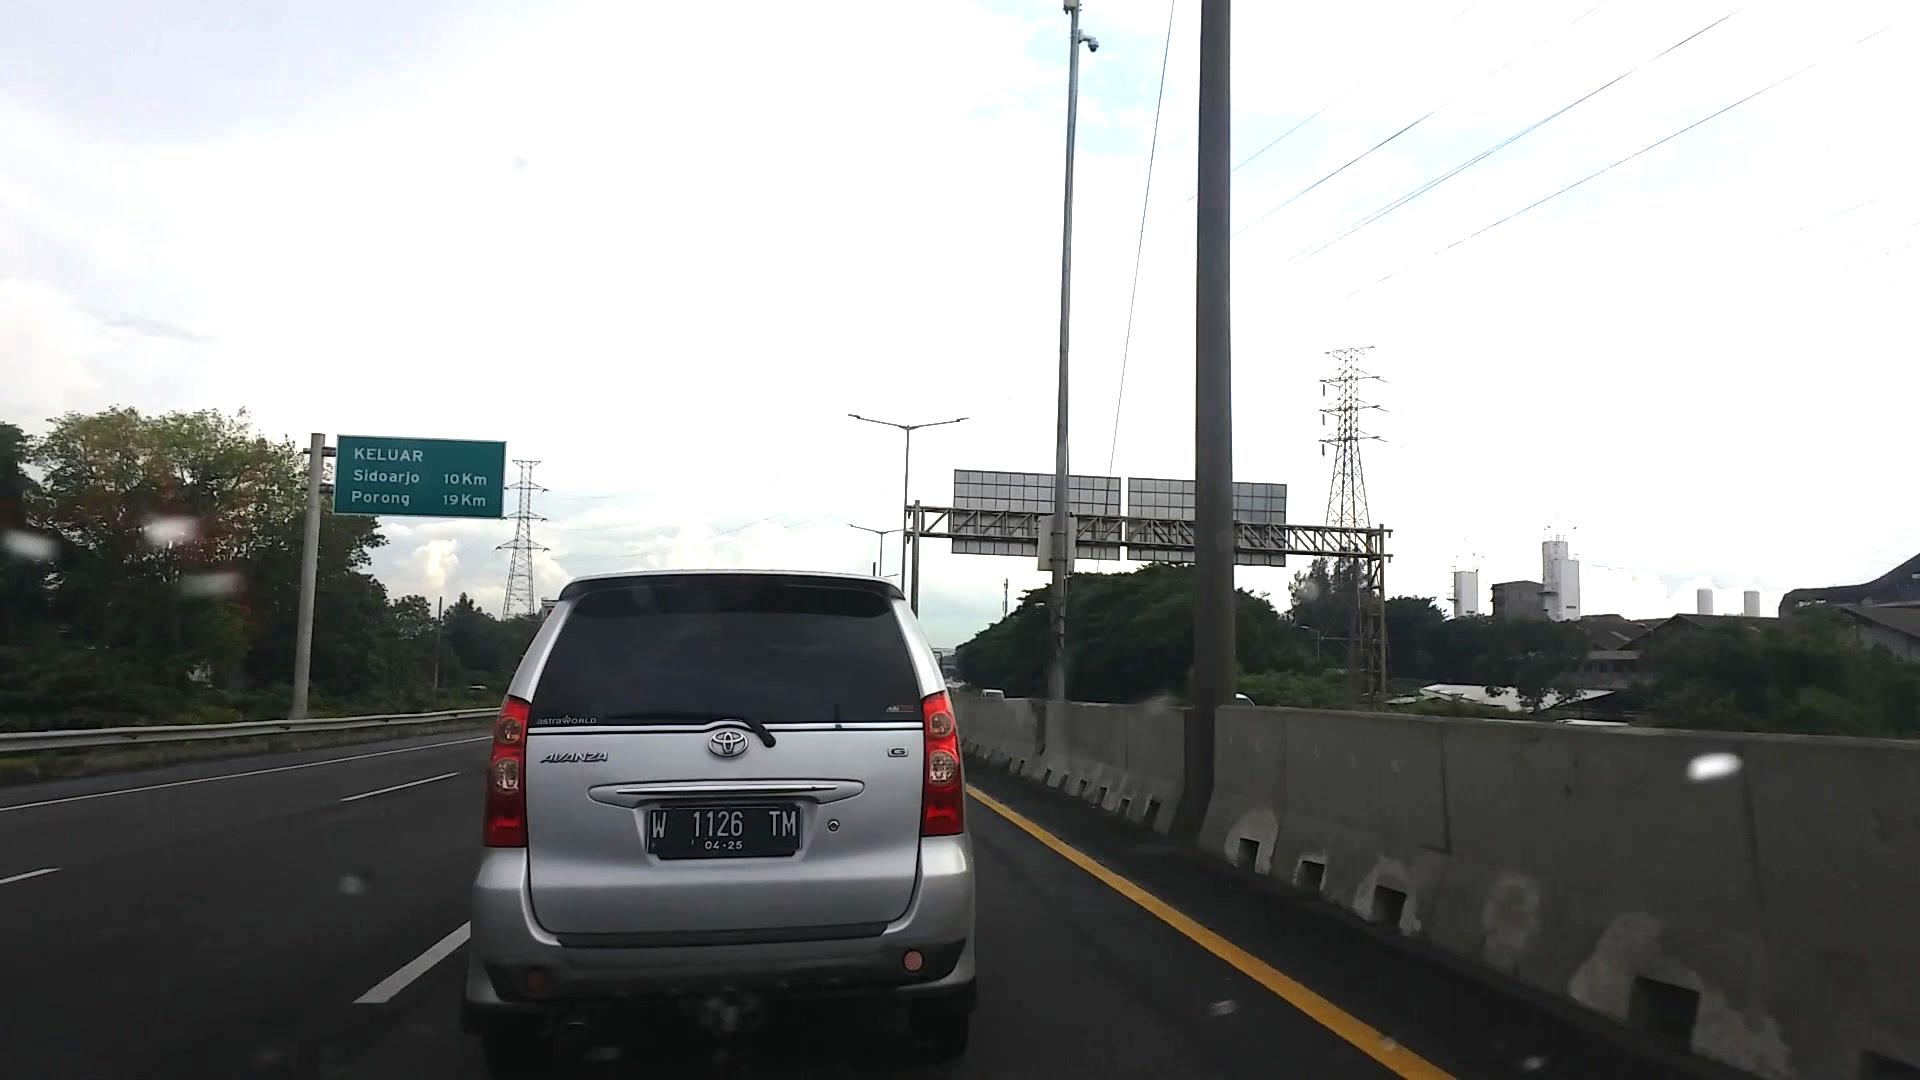plate_positive: (646, 807, 800, 851)
